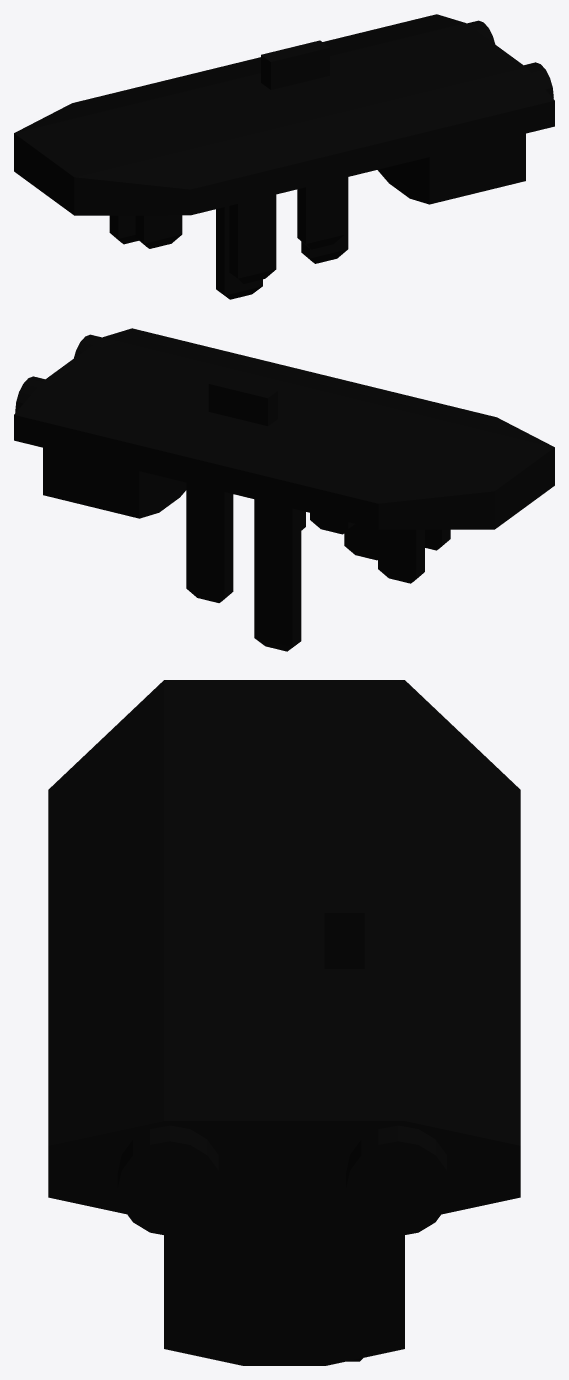
File: mining_platform.obj
3 views of the same model, one above another, from view 1: azimuth 30°, elevation 25°; view 2: azimuth 150°, elevation 25°; view 3: azimuth 270°, elevation 25° (orthographic). The views are drawn at different scales.
Parts seen in each view (by area): view 1: Cube_Cube.001; view 2: Cube_Cube.001; view 3: Cube_Cube.001.
Boxes of the visible parts, x1=… form: Cube_Cube.001: x1=14, y1=14, x2=554, y2=299; Cube_Cube.001: x1=14, y1=328, x2=554, y2=651; Cube_Cube.001: x1=48, y1=680, x2=520, y2=1365.
Size of the model in its own units: 2.63 by 1.3 by 1.15.
2 materials, 2 textured.
